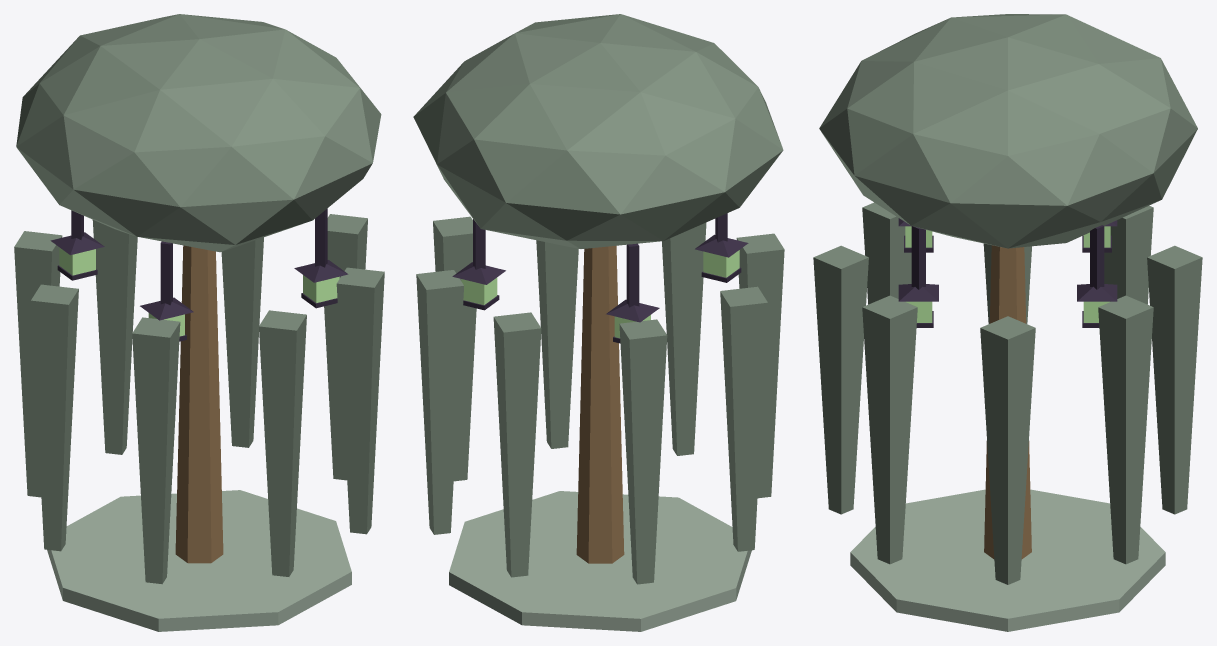
File: graveyard-g2.glb
3 renders of one model, left to right at view 1: azimuth 30°, elevation 25°; view 2: azimuth 150°, elevation 25°; view 3: azimuth 270°, elevation 25°, orthographic.
Parts seen in each view (by area): view 1: graveyard-g2; view 2: graveyard-g2; view 3: graveyard-g2.
Part boxes in pixels (box(x1,y1,x2,y2)): graveyard-g2: box(14, 14, 384, 631); graveyard-g2: box(413, 14, 784, 631); graveyard-g2: box(813, 14, 1202, 631).
Size of the model in its own units: 1.61 by 2.4 by 1.61.
